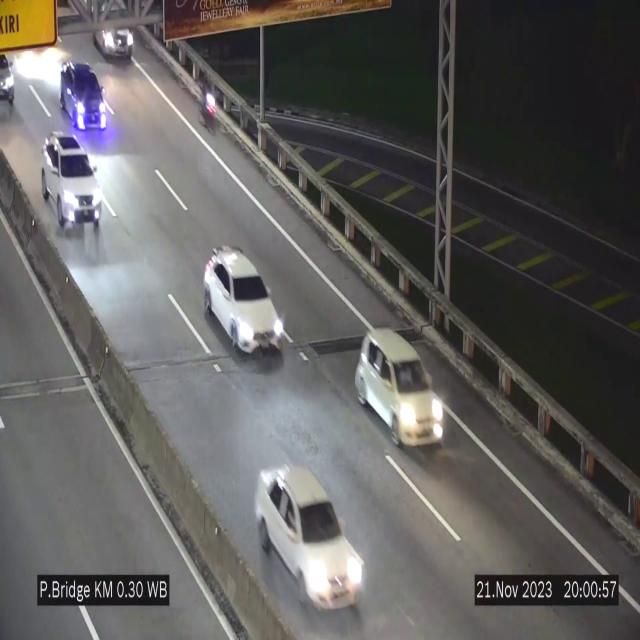Car: (252, 462, 366, 614), (355, 329, 445, 446), (203, 248, 285, 353), (42, 133, 98, 230), (56, 61, 110, 138), (90, 12, 142, 60), (0, 51, 30, 108)
Motorcycle: (199, 72, 215, 134)
